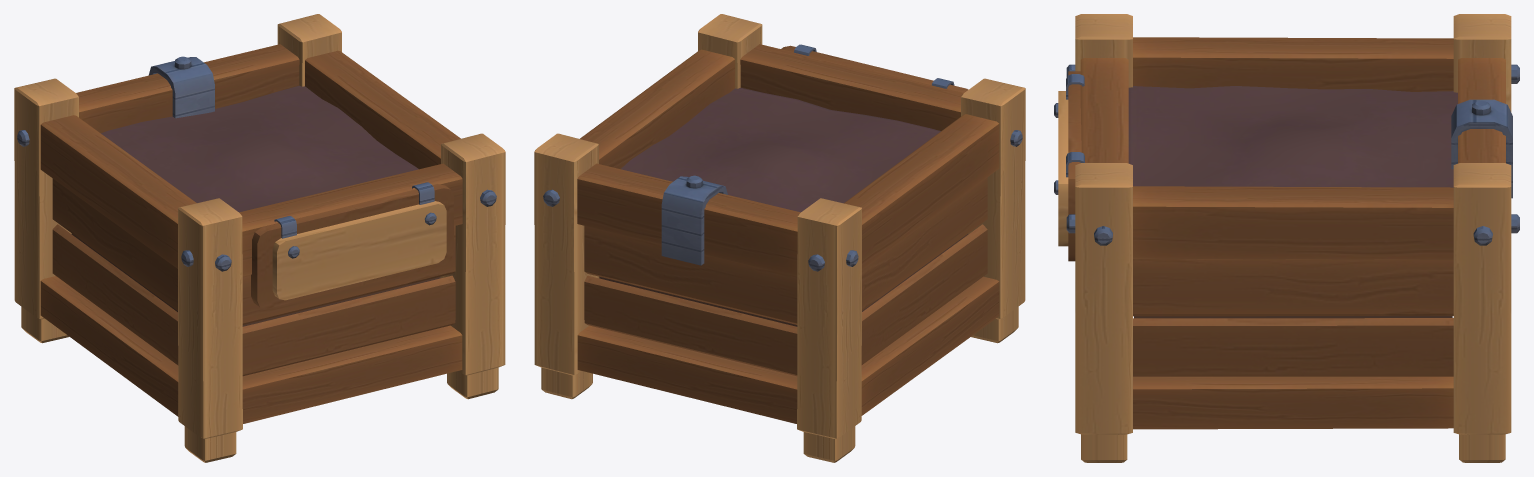
The model's file is planterBox.glb.
3 views of the same model, side by side, from view 1: azimuth 30°, elevation 25°; view 2: azimuth 150°, elevation 25°; view 3: azimuth 270°, elevation 25° (orthographic). The views are drawn at different scales.
Visible parts, largest first — view 1: PlanterBox_newMat; view 2: PlanterBox_newMat; view 3: PlanterBox_newMat.
Boxes of the visible parts, x1,y1,x2,y2 form: PlanterBox_newMat: (14, 14, 505, 462); PlanterBox_newMat: (534, 14, 1025, 462); PlanterBox_newMat: (1054, 14, 1519, 462).
Size of the model in its own units: 1.79 by 1.32 by 1.97.
2 materials, 1 textured.
